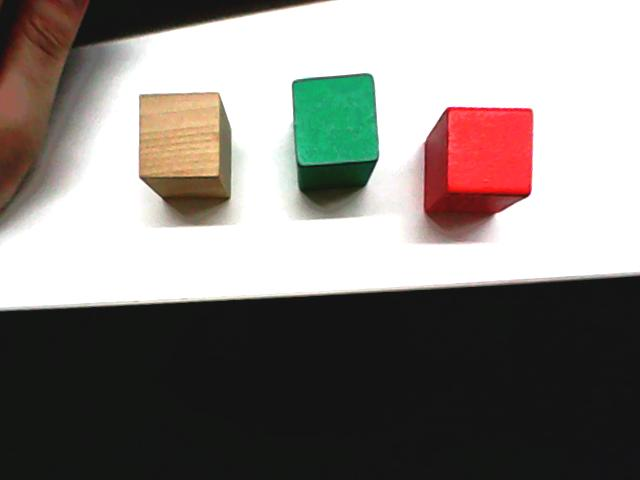green_box: (288, 68, 382, 195)
raw_box: (134, 87, 234, 203)
red_box: (420, 101, 537, 219)
